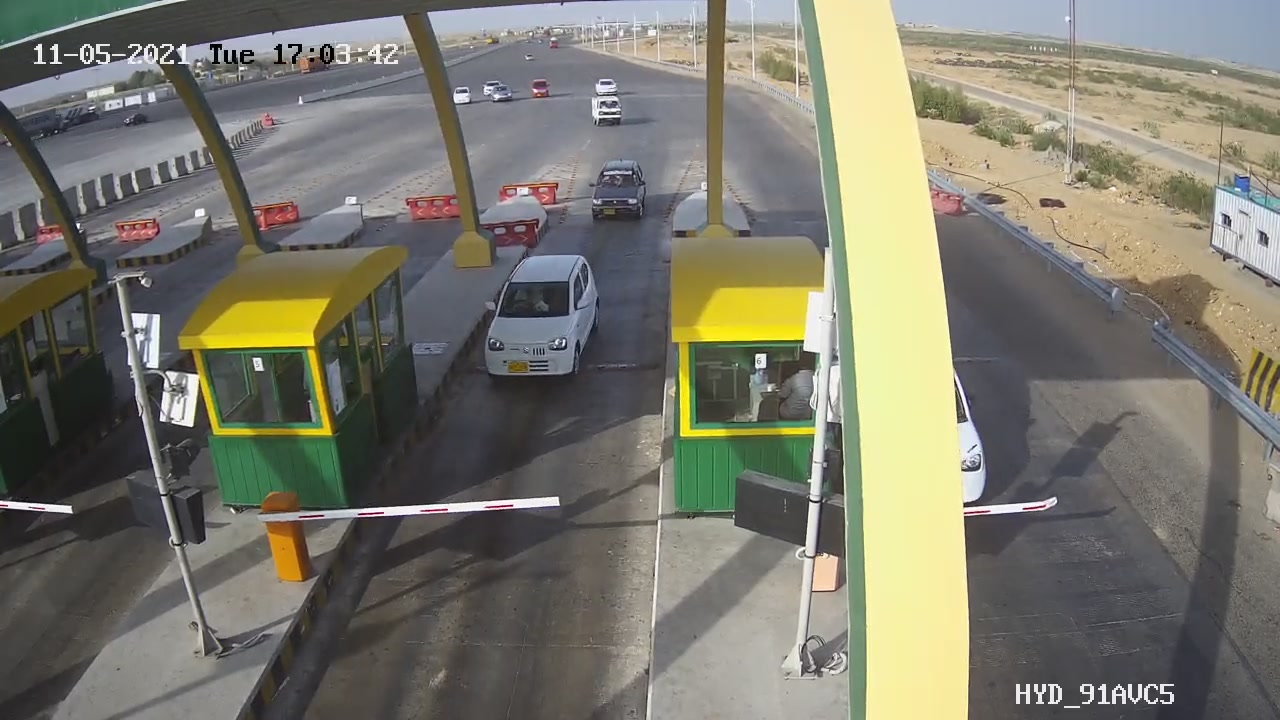F1: (466, 244, 614, 392)
